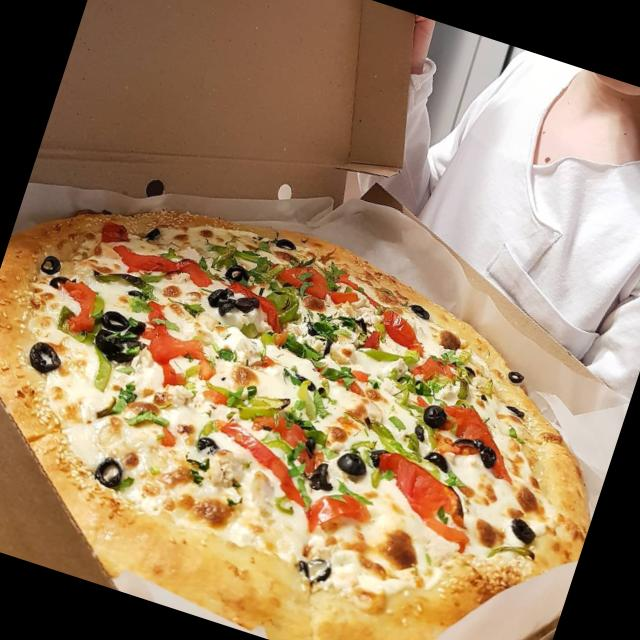black_olives: (202, 276, 260, 328), (92, 302, 140, 358), (24, 338, 69, 378), (90, 446, 128, 491), (500, 508, 541, 549), (332, 444, 372, 482), (35, 248, 60, 278), (225, 258, 251, 286), (422, 401, 448, 426), (424, 443, 450, 467), (407, 302, 435, 324), (196, 427, 220, 452), (272, 232, 298, 255), (501, 368, 524, 390)
peppers: (207, 416, 329, 514), (364, 444, 482, 538), (126, 296, 215, 386), (106, 234, 214, 297), (439, 397, 524, 475), (225, 278, 294, 334), (50, 273, 111, 336), (371, 296, 426, 350), (282, 253, 335, 300), (416, 344, 454, 385)
pizza: (0, 211, 591, 640)
